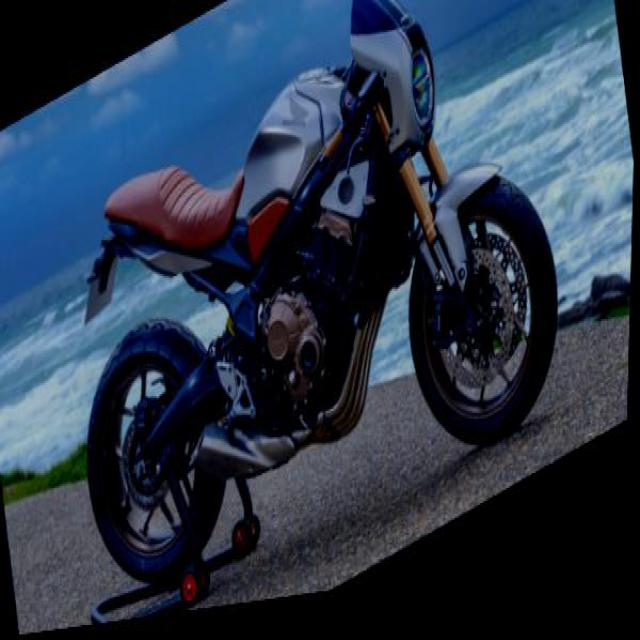CB650R: (40, 0, 585, 633)
